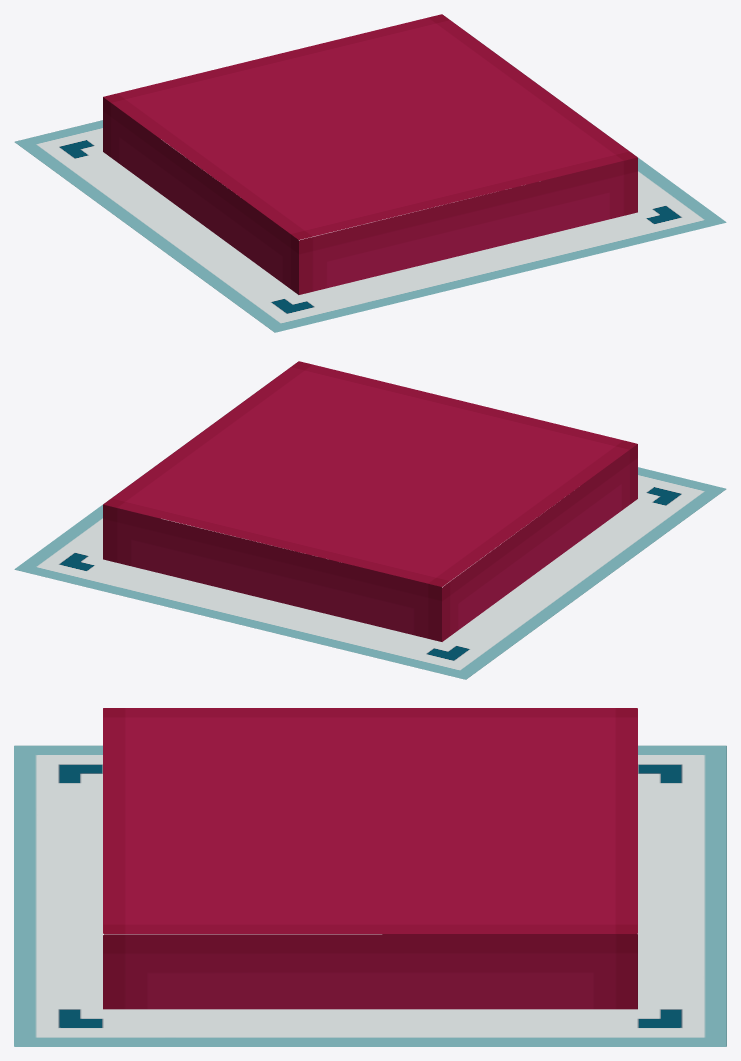
The model's file is Pressure_Plate.fbx.
3 renders of one model, top to bottom at view 1: azimuth 30°, elevation 25°; view 2: azimuth 150°, elevation 25°; view 3: azimuth 270°, elevation 25°, orthographic. The views are drawn at different scales.
Visible parts, largest first — view 1: Plane.001, Plane; view 2: Plane.001, Plane; view 3: Plane.001, Plane.
Part boxes in pixels (x1,y1,x2,y2): Plane.001: [103, 14, 637, 294]; Plane: [14, 120, 726, 332]; Plane.001: [103, 361, 637, 641]; Plane: [14, 467, 726, 679]; Plane.001: [103, 708, 637, 1009]; Plane: [14, 745, 726, 1046].
Bounding box in the file's own units: 100 × 12 × 100.
